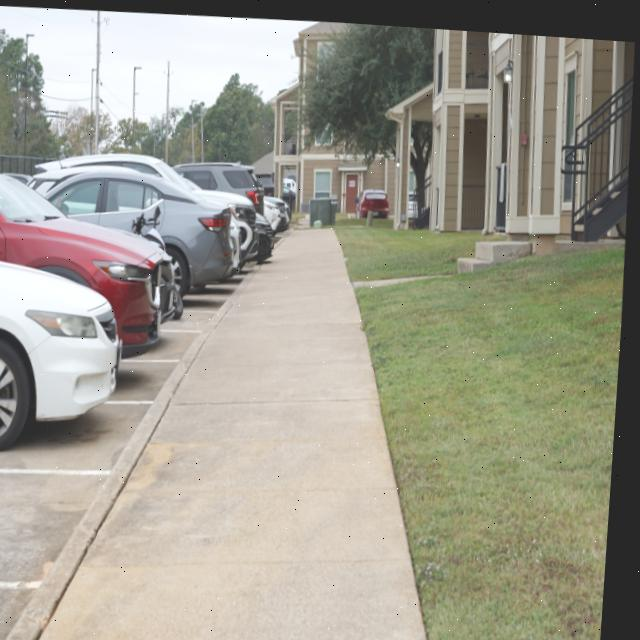Automobile: (0, 170, 179, 354), (43, 153, 241, 293), (0, 260, 125, 450), (197, 187, 267, 267), (66, 151, 202, 187), (177, 159, 266, 210), (358, 183, 391, 212), (258, 209, 276, 259), (266, 192, 283, 230)
Obstacle: (312, 193, 337, 220)
Road: (0, 275, 243, 640)
Sidewalk: (48, 224, 435, 640)
